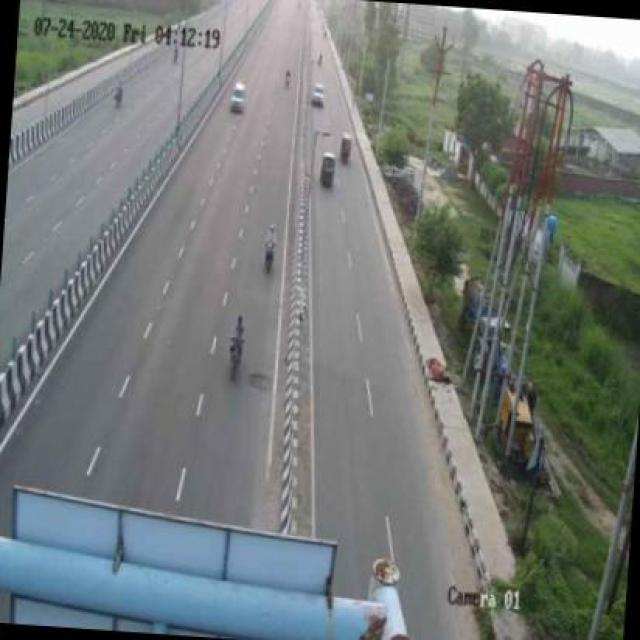car: (227, 73, 250, 115)
